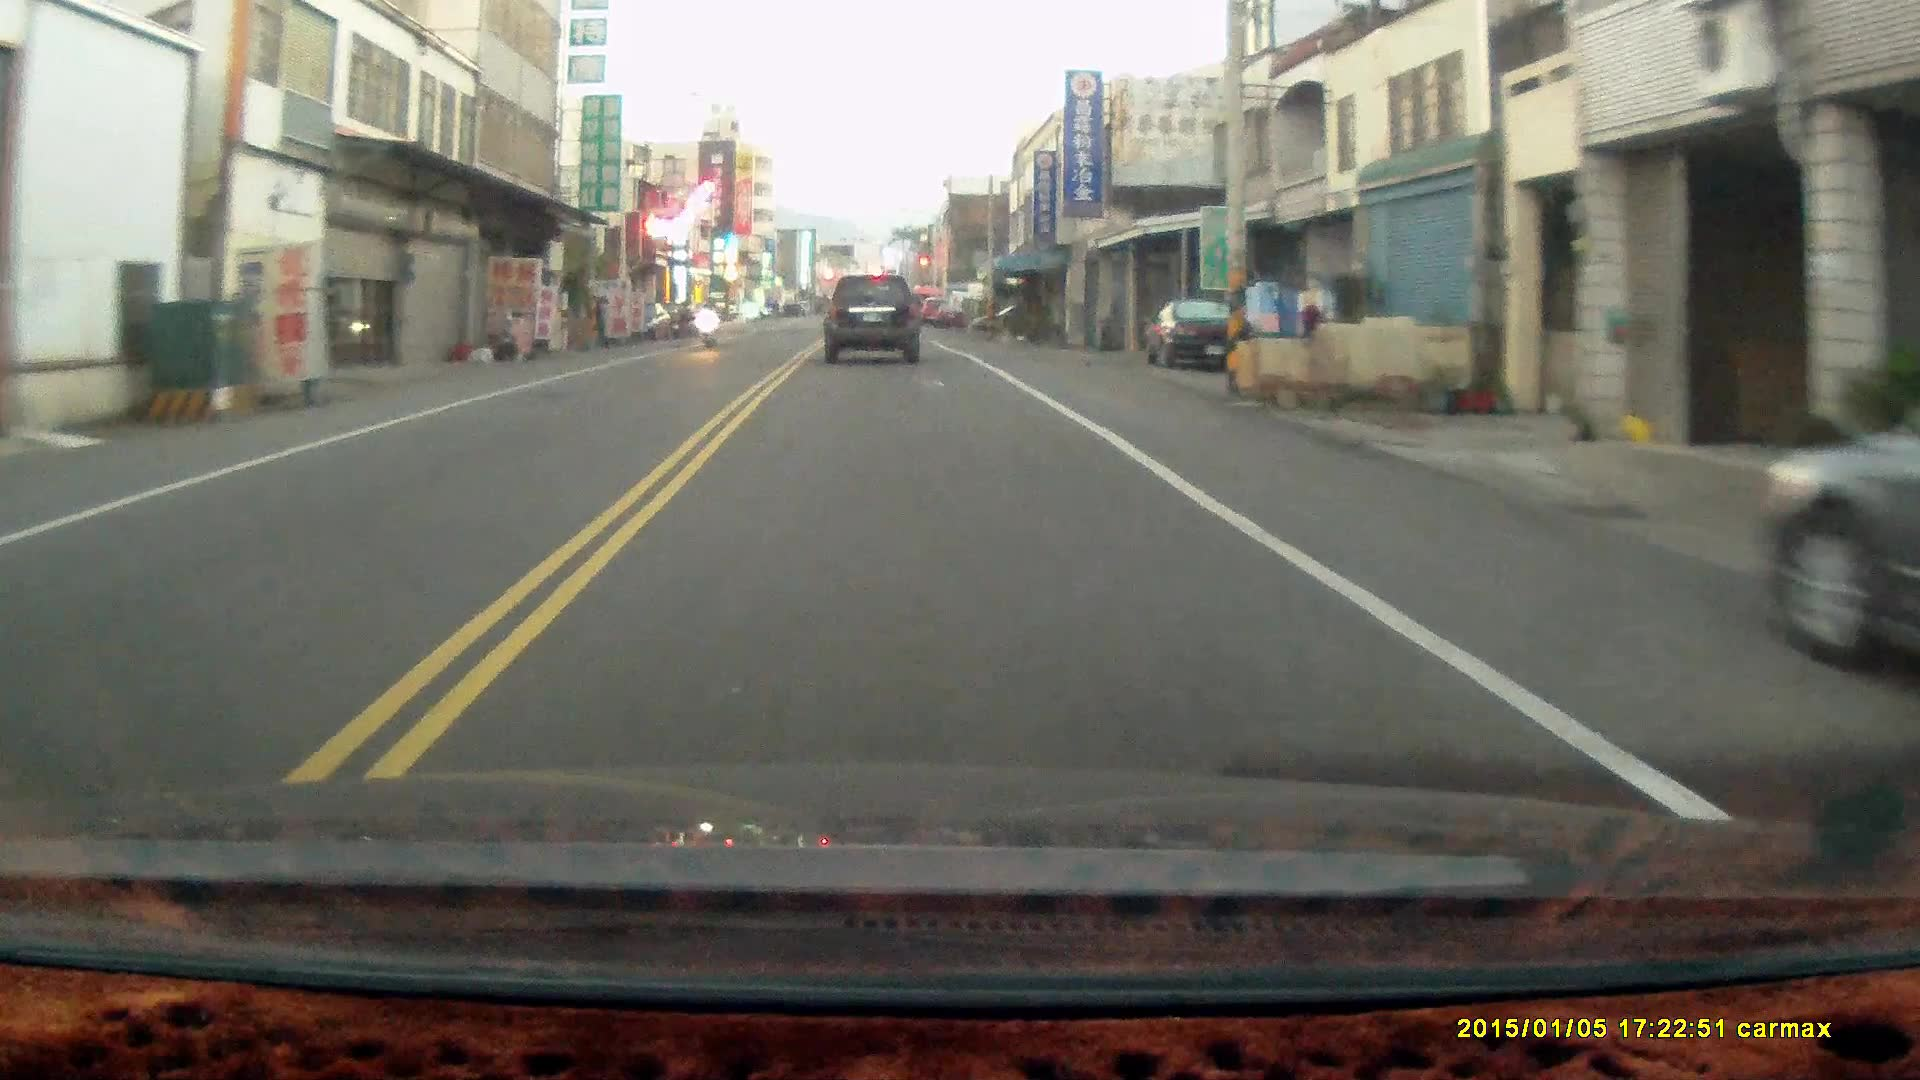pedestrian: (586, 292, 608, 351)
rider: (690, 292, 717, 348)
vehicle: (824, 276, 924, 368), (1147, 299, 1260, 377)
